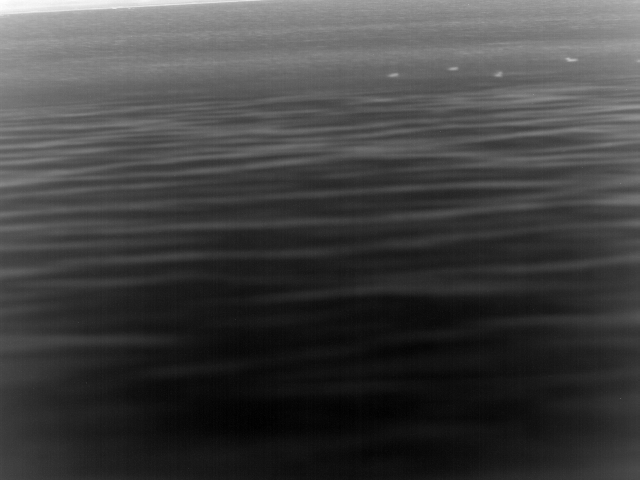dim target: (565, 57, 579, 63), (387, 72, 400, 78), (494, 71, 503, 78), (447, 66, 458, 71)
